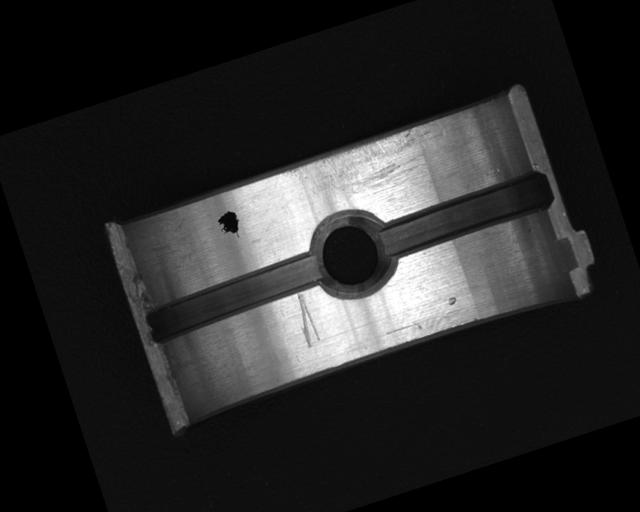blot: (213, 206, 245, 244)
bruise: (446, 295, 458, 307)
gap: (136, 247, 332, 351), (372, 168, 558, 265)
hole: (303, 202, 401, 305)
nick: (288, 290, 323, 350)
scratch: (279, 114, 458, 217)
